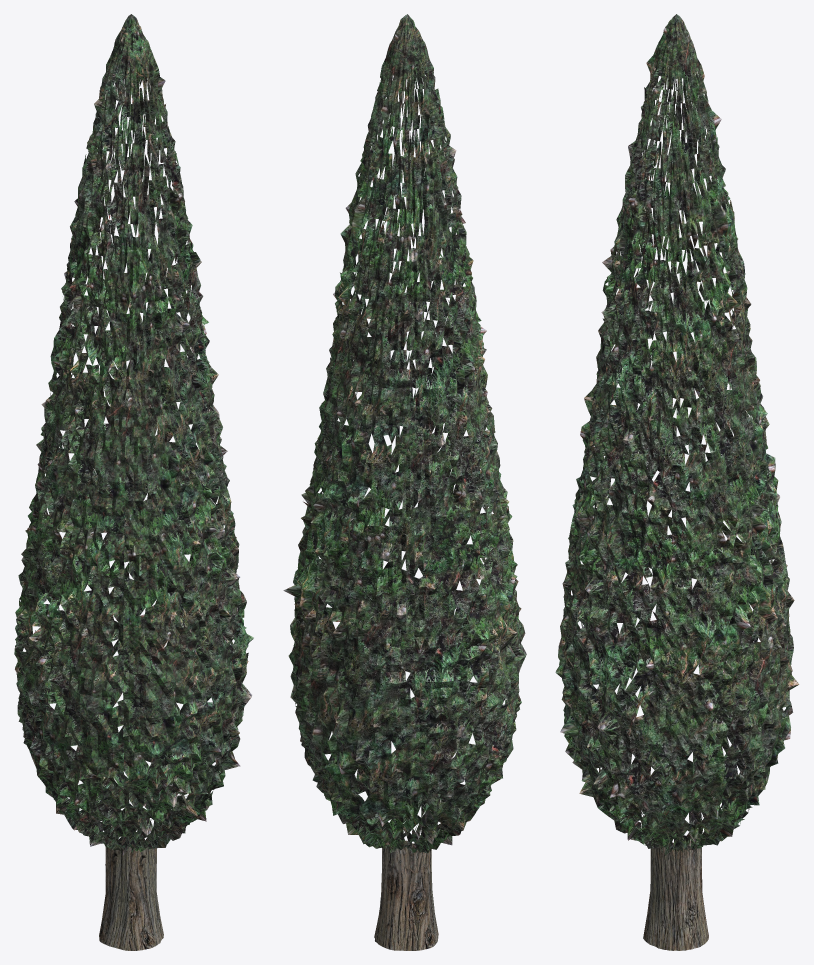
The model's file is sweethome3d-scopia-cypress-365.glb.
3 renders of one model, left to right at view 1: azimuth 30°, elevation 25°; view 2: azimuth 150°, elevation 25°; view 3: azimuth 270°, elevation 25°, orthographic.
Parts seen in each view (by area): view 1: Leaves_Circle, Trunk_Circle.001; view 2: Leaves_Circle, Trunk_Circle.001; view 3: Leaves_Circle, Trunk_Circle.001.
Boxes of the visible parts, x1,y1,x2,y2 form: Leaves_Circle: (14, 14, 253, 855); Trunk_Circle.001: (99, 840, 163, 950); Leaves_Circle: (283, 14, 526, 853); Trunk_Circle.001: (374, 840, 438, 950); Leaves_Circle: (555, 14, 799, 856); Trunk_Circle.001: (643, 840, 708, 950).
Size of the model in its own units: 132 by 560 by 134.
Materials: 2 (2 with a texture image).
